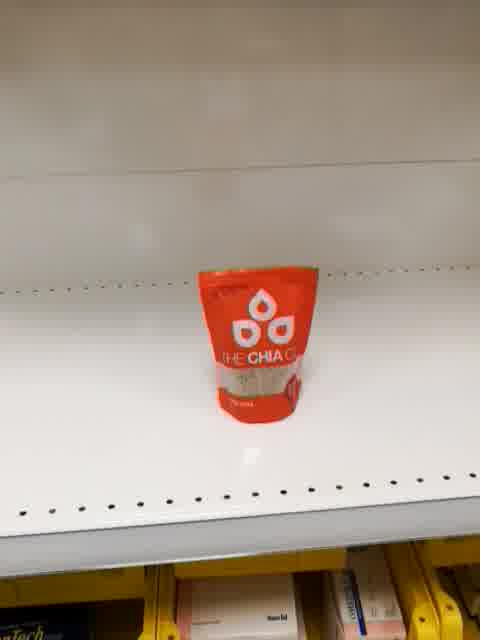whitechia: (198, 264, 320, 425)
